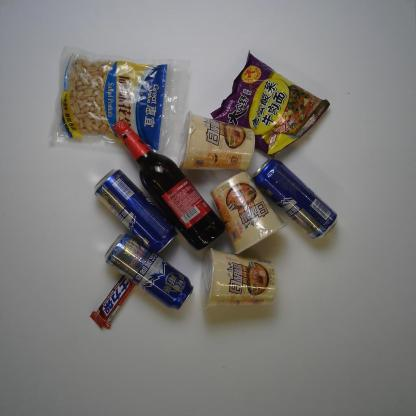Alcohol: (110, 116, 228, 252), (249, 154, 341, 245), (92, 166, 180, 258), (100, 232, 196, 312)
Chocolate: (87, 262, 143, 333)
Dried Fruit: (52, 47, 185, 150)
Instant Noodles: (209, 48, 330, 160), (209, 168, 288, 256), (180, 108, 257, 176), (199, 246, 278, 310)
